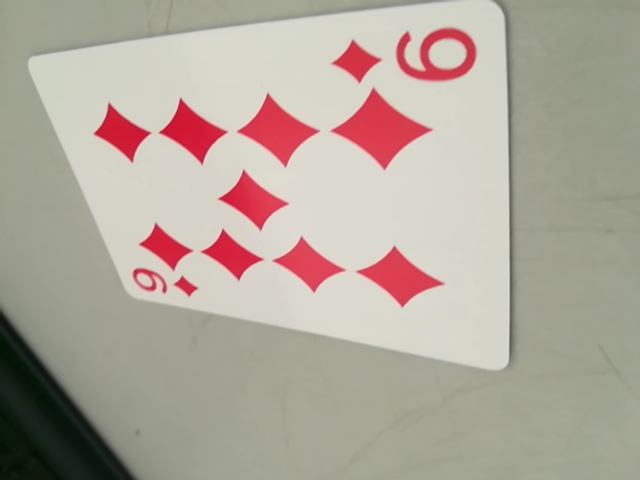fk 9: (336, 17, 484, 98), (125, 262, 205, 305)
